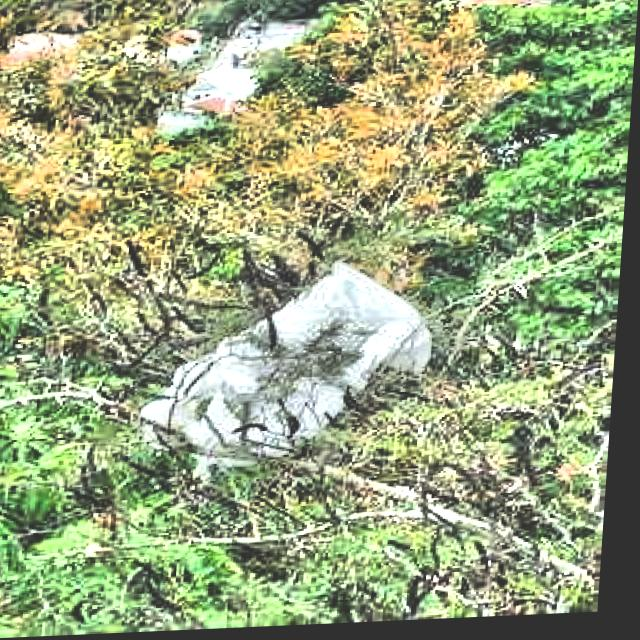Plastic: (122, 256, 468, 484)
